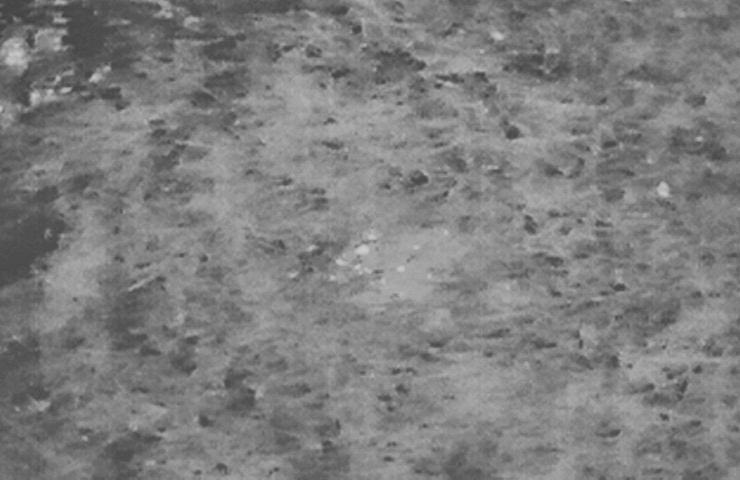landmines: (335, 224, 462, 308)
